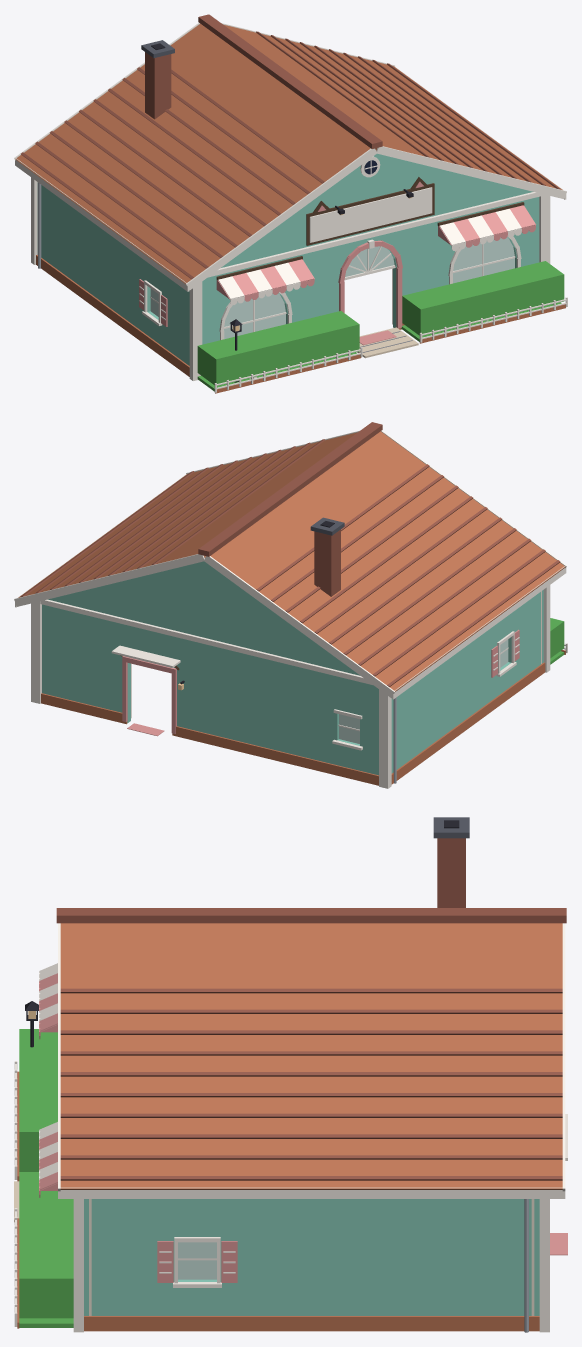
File: CatCafe_Plot_Cafe_Mint.fbx
The picture shows the model from 3 angles, top to bottom: view 1: azimuth 30°, elevation 25°; view 2: azimuth 150°, elevation 25°; view 3: azimuth 270°, elevation 25°; orthographic projection. The views are drawn at different scales.
Visible parts, largest first — view 1: CatCafe_Plot_Cafe_Mint_Roof, CatCafe_Plot_Cafe_Mint_Paint, CatCafe_Plot_Cafe_Mint_Fireflies, CatCafe_Plot_Cafe_Mint_Trim, CatCafe_Plot_Cafe_Mint_Roof_Trim, CatCafe_Plot_Cafe_Mint_Awning, CatCafe_Plot_Cafe_Mint_Glass, CatCafe_Plot_Cafe_Mint, CatCafe_Plot_Cafe_Mint_SignBoard, CatCafe_Plot_Cafe_Mint_Garden, CatCafe_Plot_Cafe_Mint_Path, CatCafe_Plot_Cafe_Mint_Flowers; view 2: CatCafe_Plot_Cafe_Mint_Roof, CatCafe_Plot_Cafe_Mint_Paint, CatCafe_Plot_Cafe_Mint_Trim, CatCafe_Plot_Cafe_Mint_Roof_Trim, CatCafe_Plot_Cafe_Mint, CatCafe_Plot_Cafe_Mint_Glass, CatCafe_Plot_Cafe_Mint_Fireflies; view 3: CatCafe_Plot_Cafe_Mint_Roof, CatCafe_Plot_Cafe_Mint_Paint, CatCafe_Plot_Cafe_Mint_Fireflies, CatCafe_Plot_Cafe_Mint, CatCafe_Plot_Cafe_Mint_Roof_Trim, CatCafe_Plot_Cafe_Mint_Trim, CatCafe_Plot_Cafe_Mint_Awning, CatCafe_Plot_Cafe_Mint_Garden, CatCafe_Plot_Cafe_Mint_Glass, CatCafe_Plot_Cafe_Mint_Wallpaper.
Boxes of the visible parts, x1,y1,x2,y2 form: CatCafe_Plot_Cafe_Mint_Roof: [15, 14, 562, 283]; CatCafe_Plot_Cafe_Mint_Paint: [37, 153, 539, 365]; CatCafe_Plot_Cafe_Mint_Fireflies: [197, 261, 564, 386]; CatCafe_Plot_Cafe_Mint_Trim: [31, 156, 550, 380]; CatCafe_Plot_Cafe_Mint_Roof_Trim: [14, 23, 566, 291]; CatCafe_Plot_Cafe_Mint_Awning: [216, 205, 535, 304]; CatCafe_Plot_Cafe_Mint_Glass: [150, 237, 514, 339]; CatCafe_Plot_Cafe_Mint: [36, 160, 515, 376]; CatCafe_Plot_Cafe_Mint_SignBoard: [309, 187, 432, 242]; CatCafe_Plot_Cafe_Mint_Garden: [214, 297, 567, 393]; CatCafe_Plot_Cafe_Mint_Path: [357, 327, 418, 358]; CatCafe_Plot_Cafe_Mint_Flowers: [197, 302, 561, 391]; CatCafe_Plot_Cafe_Mint_Roof: [18, 422, 565, 691]; CatCafe_Plot_Cafe_Mint_Paint: [42, 561, 543, 775]; CatCafe_Plot_Cafe_Mint_Trim: [31, 585, 550, 788]; CatCafe_Plot_Cafe_Mint_Roof_Trim: [14, 430, 566, 699]; CatCafe_Plot_Cafe_Mint: [41, 629, 545, 785]; CatCafe_Plot_Cafe_Mint_Glass: [339, 639, 508, 743]; CatCafe_Plot_Cafe_Mint_Fireflies: [550, 618, 564, 658]; CatCafe_Plot_Cafe_Mint_Roof: [56, 817, 566, 1189]; CatCafe_Plot_Cafe_Mint_Paint: [84, 1199, 539, 1315]; CatCafe_Plot_Cafe_Mint_Fireflies: [19, 1029, 73, 1318]; CatCafe_Plot_Cafe_Mint: [84, 1199, 567, 1332]; CatCafe_Plot_Cafe_Mint_Roof_Trim: [58, 923, 565, 1198]; CatCafe_Plot_Cafe_Mint_Trim: [73, 1114, 567, 1332]; CatCafe_Plot_Cafe_Mint_Awning: [39, 963, 57, 1197]; CatCafe_Plot_Cafe_Mint_Garden: [14, 1001, 38, 1328]; CatCafe_Plot_Cafe_Mint_Glass: [178, 1242, 216, 1279]; CatCafe_Plot_Cafe_Mint_Wallpaper: [89, 1199, 534, 1315].
Size of the model in its own units: 49.86 by 27.27 by 42.8.
Materials: 1 (1 with a texture image).
